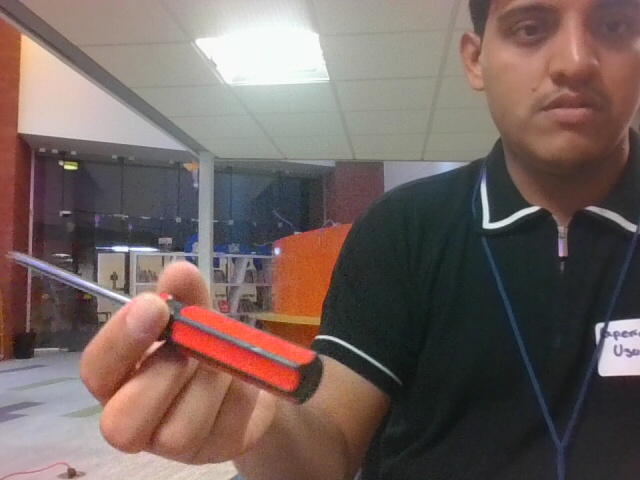destornillador: (5, 250, 322, 400)
